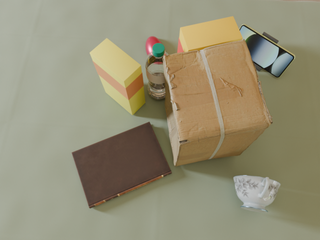book: (72, 122, 172, 208)
bottle: (146, 43, 169, 100)
box: (163, 39, 273, 166), (90, 38, 145, 115), (178, 16, 243, 52)
cup: (233, 175, 280, 213)
mouse: (146, 36, 162, 55)
phone: (239, 24, 295, 77)
